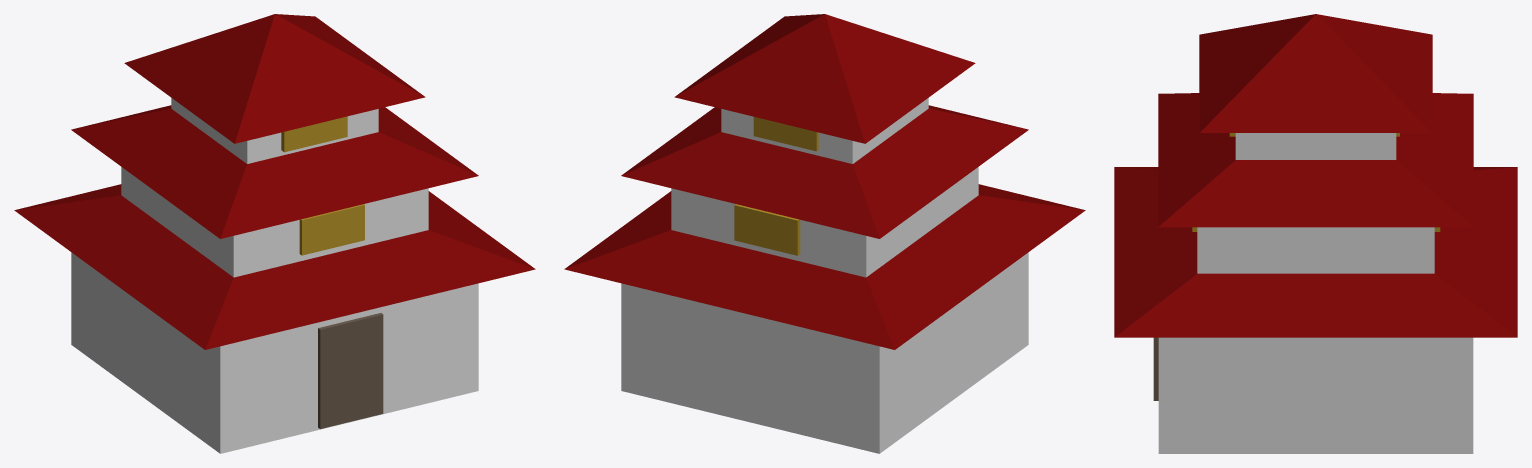
File: House E.fbx
The picture shows the model from 3 angles, left to right: view 1: azimuth 30°, elevation 25°; view 2: azimuth 150°, elevation 25°; view 3: azimuth 270°, elevation 25°; orthographic projection. The views are drawn at different scales.
Visible parts, largest first — view 1: pCube1, pCone4, pCone2, pCone3, pCube2, pCube4, pCube3, pCube5, pCube6; view 2: pCube1, pCone4, pCone2, pCone3, pCube2, pCube3, pCube8, pCube7; view 3: pCone4, pCube1, pCone2, pCone3, pCube2, pCube3.
Part boxes in pixels (box(x1,y1,x2,y2)): pCube1: box(71, 252, 478, 453); pCone4: box(14, 184, 535, 349); pCone2: box(71, 105, 478, 238); pCone3: box(124, 14, 425, 143); pCube2: box(121, 167, 428, 277); pCube4: box(318, 313, 383, 428); pCube3: box(171, 98, 378, 163); pCube5: box(299, 204, 364, 255); pCube6: box(281, 116, 347, 152); pCube1: box(621, 252, 1028, 453); pCone4: box(564, 184, 1085, 349); pCone2: box(621, 105, 1028, 238); pCone3: box(674, 14, 975, 143); pCube2: box(671, 167, 978, 277); pCube3: box(721, 98, 928, 163); pCube8: box(734, 204, 800, 255); pCube7: box(753, 117, 818, 151); pCone4: box(1114, 167, 1517, 337); pCube1: box(1158, 337, 1473, 453); pCone2: box(1158, 93, 1473, 227); pCone3: box(1199, 14, 1432, 132); pCube2: box(1197, 227, 1434, 273); pCube3: box(1235, 133, 1396, 159).
Size of the model in its own units: 10.46 by 10.69 by 10.46.
